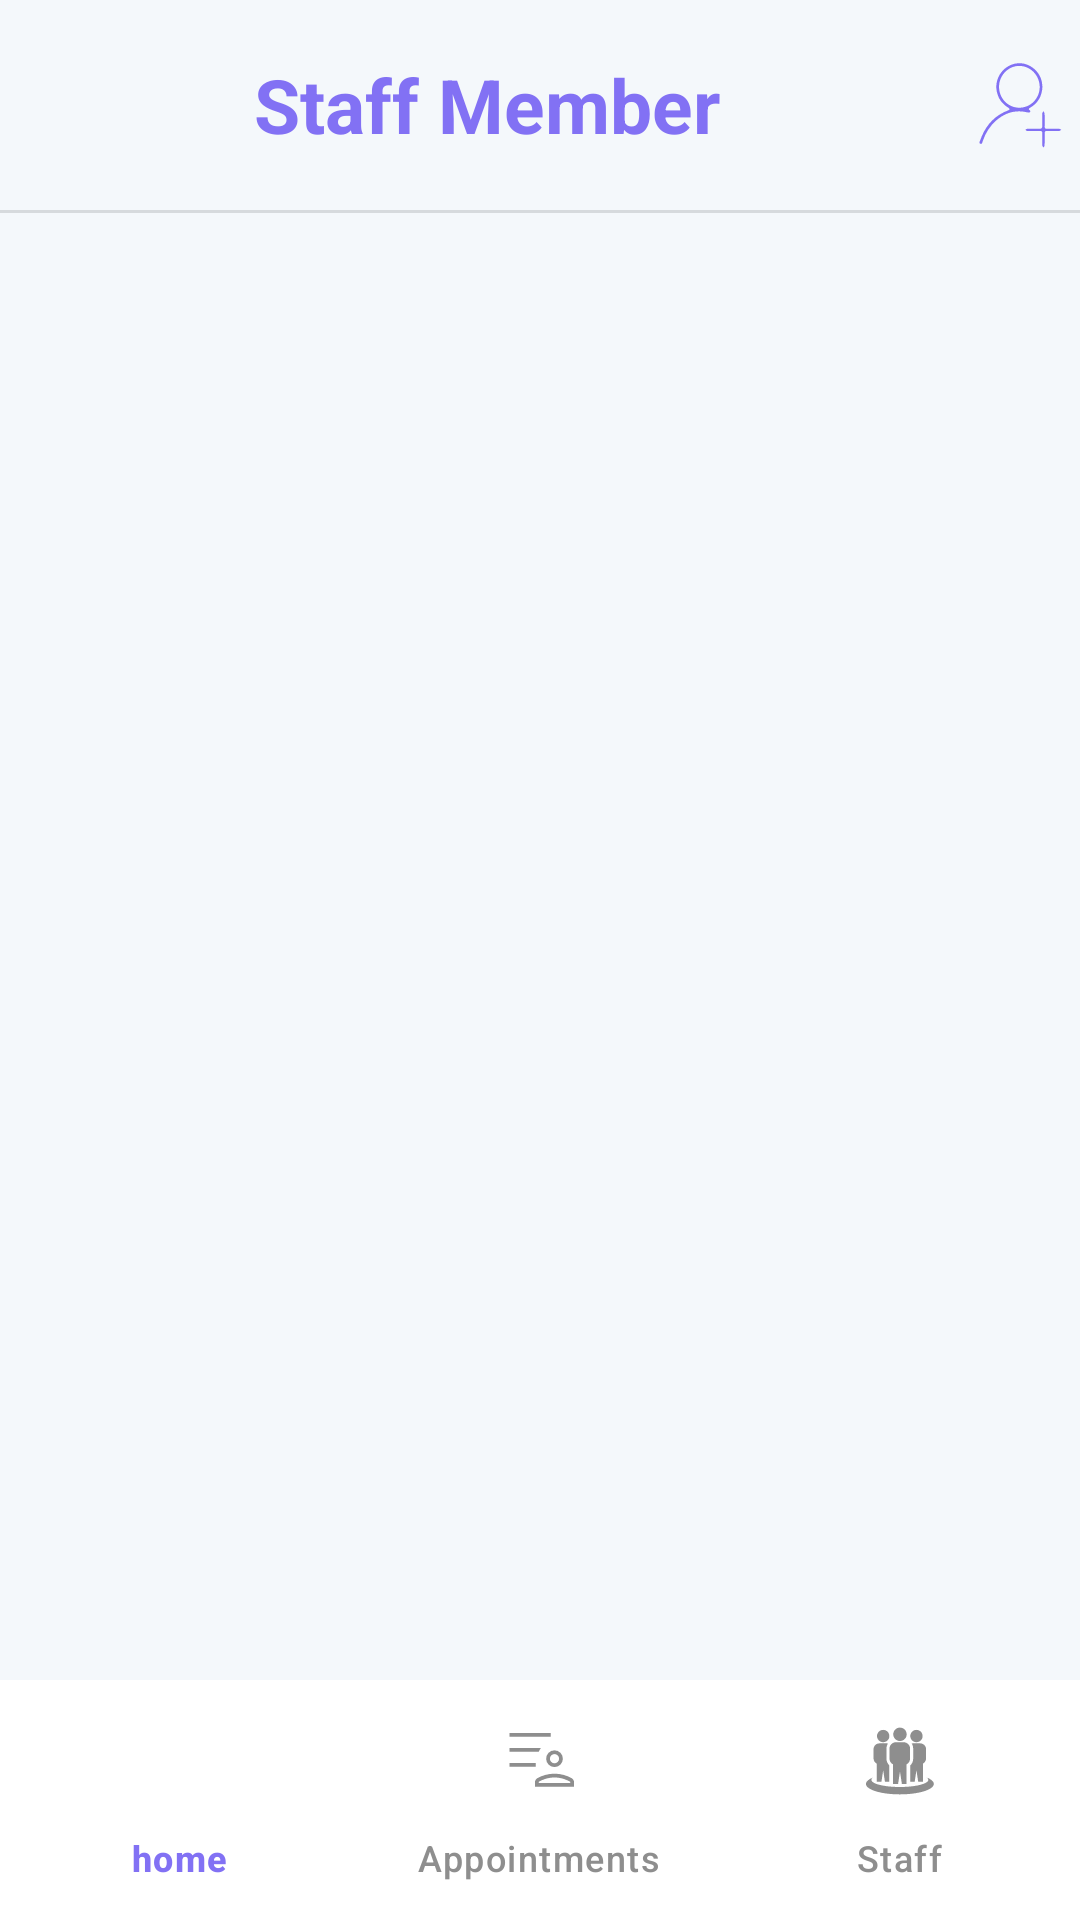

Point at icon controls on the screen. Image size 1080px x 1920px, points as (x,y).
addstaff: (1020,105)
